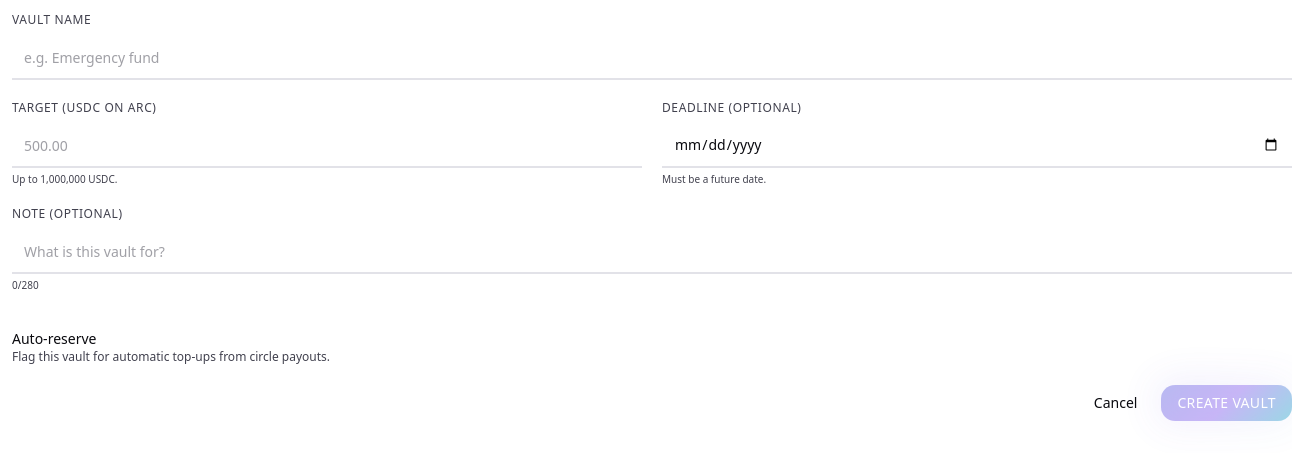
GoalForm — inline validation › disables submit until the form is valid
Expected: the button "Create vault" is disabled, top-left (1161, 385), bottom-right (1292, 421)
Type "Emergency fund" into the field with placeholder "e.g. Emergency fund".
click(652, 58); type("Emergency fund")  # box top-left (12, 36), bottom-right (1292, 80)
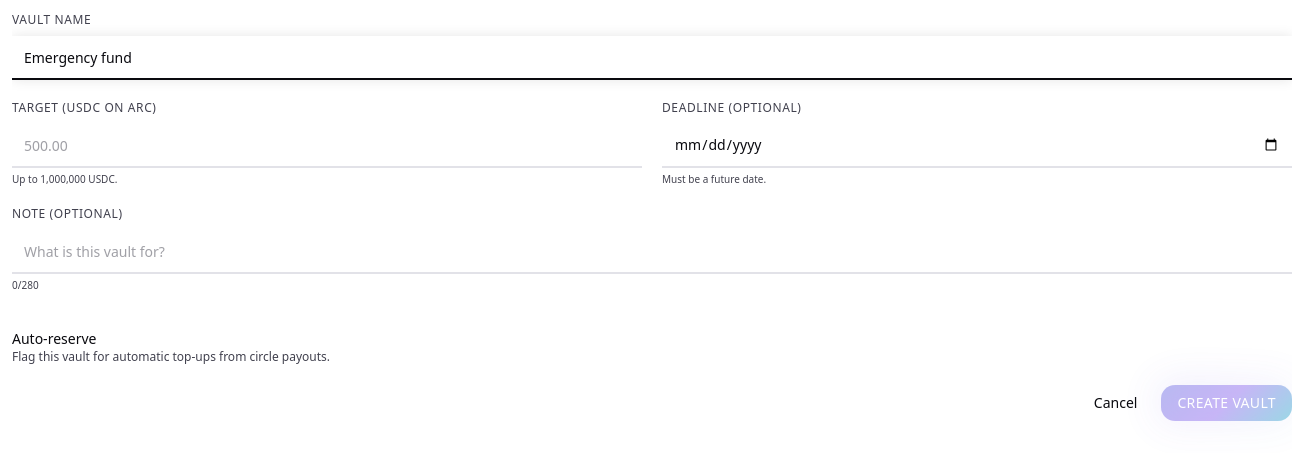
Type "500" into the field with placeholder "500.00".
click(327, 146); type("500")  # box top-left (12, 124), bottom-right (642, 168)
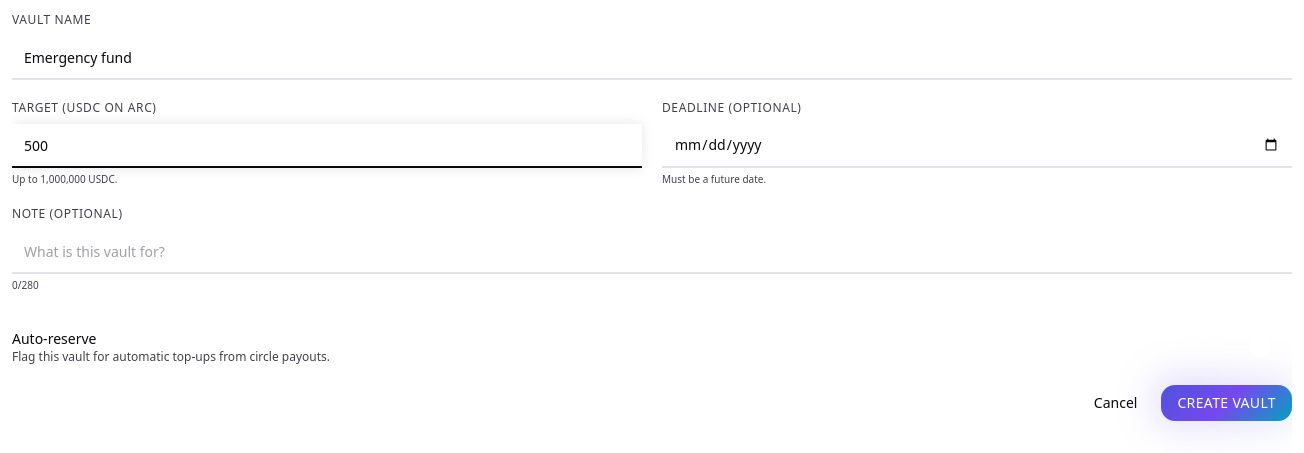
Result: the button "Create vault" is enabled at top-left (1161, 385), bottom-right (1292, 421)
